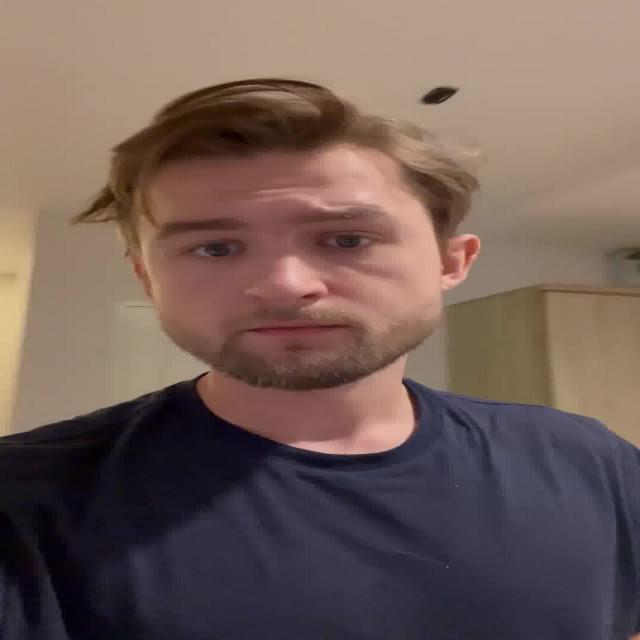earlobe: (438, 234, 482, 293), (128, 255, 157, 306)
